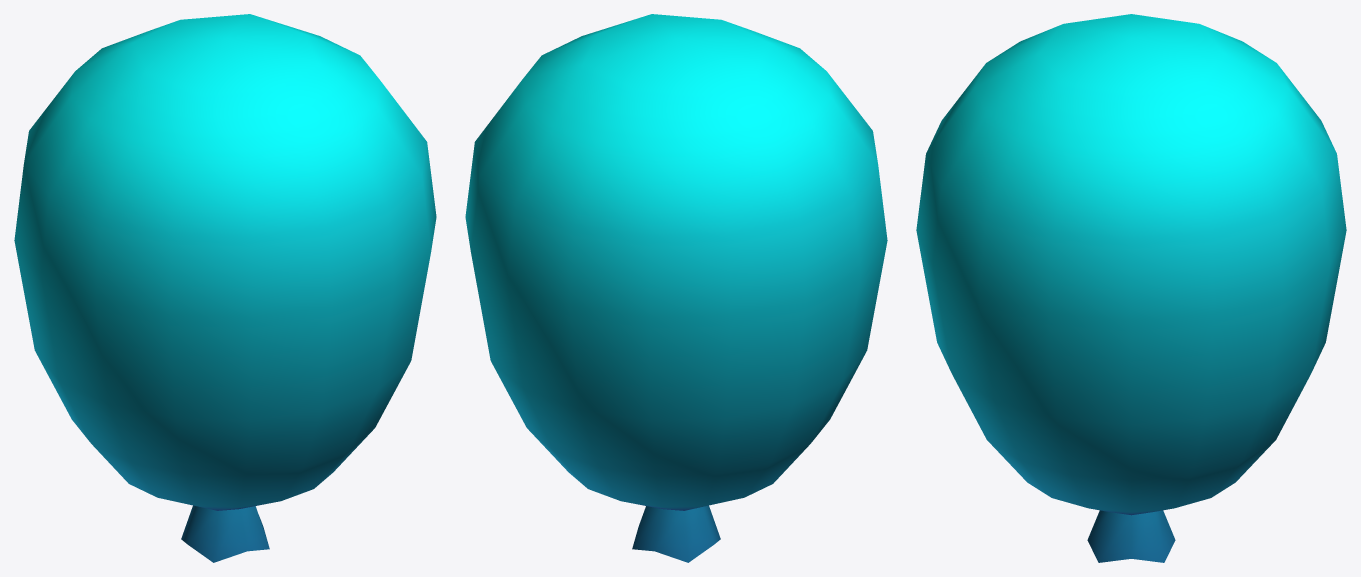
Rendered from balloon_blue.obj.
3 views of the same model, side by side, from view 1: azimuth 30°, elevation 25°; view 2: azimuth 150°, elevation 25°; view 3: azimuth 270°, elevation 25° (orthographic).
Visible parts, largest first — view 1: balloon_blue; view 2: balloon_blue; view 3: balloon_blue.
Boxes of the visible parts, <box> form: balloon_blue: <box>14,14,436,562</box>; balloon_blue: <box>465,14,887,562</box>; balloon_blue: <box>916,14,1346,562</box>.
Size of the model in its own units: 0.7657 by 1 by 0.7657.
1 material, 1 textured.
